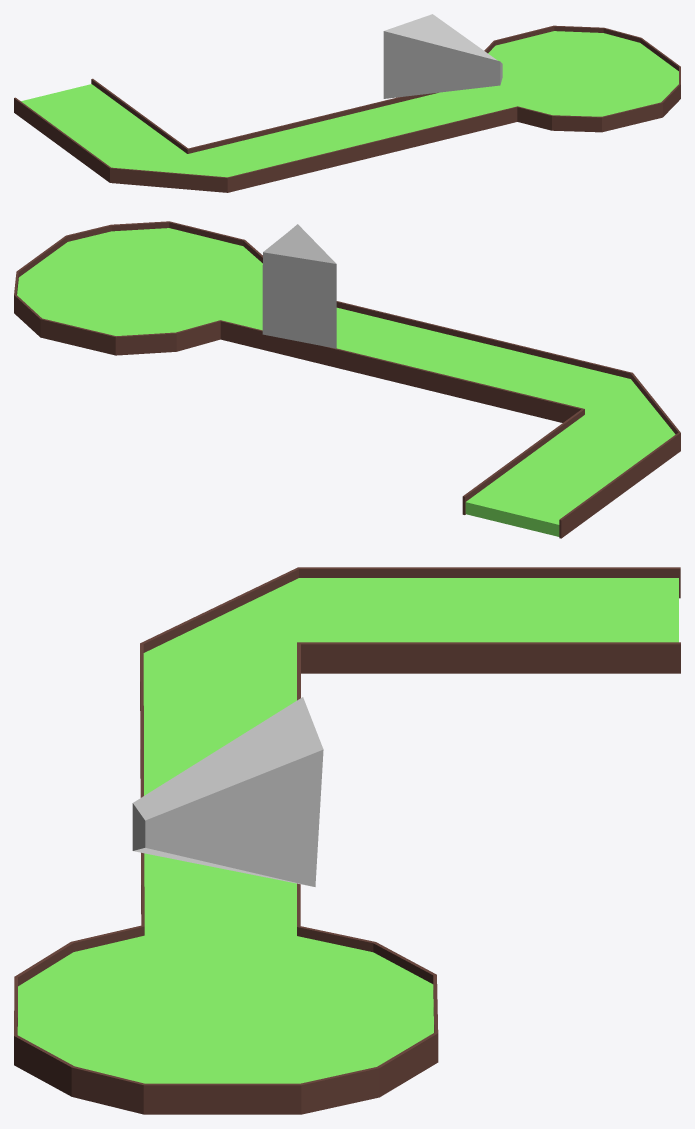
3 renders of one model, top to bottom at view 1: azimuth 30°, elevation 25°; view 2: azimuth 150°, elevation 25°; view 3: azimuth 270°, elevation 25°, orthographic. The views are drawn at different scales.
Parts seen in each view (by area): view 1: Cube.059, Cube.060, Cube.061; view 2: Cube.059, Cube.060, Cube.061; view 3: Cube.059, Cube.060, Cube.061.
Boxes of the visible parts, x1,y1,x2,y2 form: Cube.059: (21,31,678,177); Cube.060: (14,25,680,192); Cube.061: (383,14,502,98); Cube.059: (17,228,675,536); Cube.060: (14,221,680,538); Cube.061: (262,224,336,348); Cube.059: (17,578,678,1083); Cube.060: (14,567,680,1114); Cube.061: (132,697,323,886).
Size of the model in its own units: 2032 by 306 by 1105.
